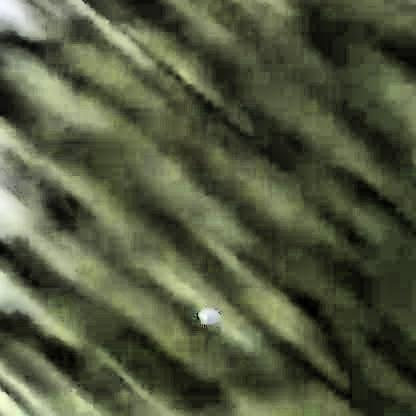golfball: (193, 309, 221, 328)
